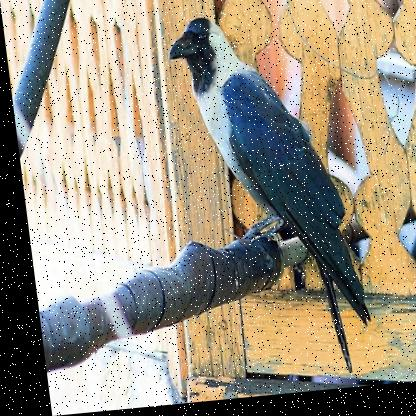Burung: (161, 10, 367, 389)
